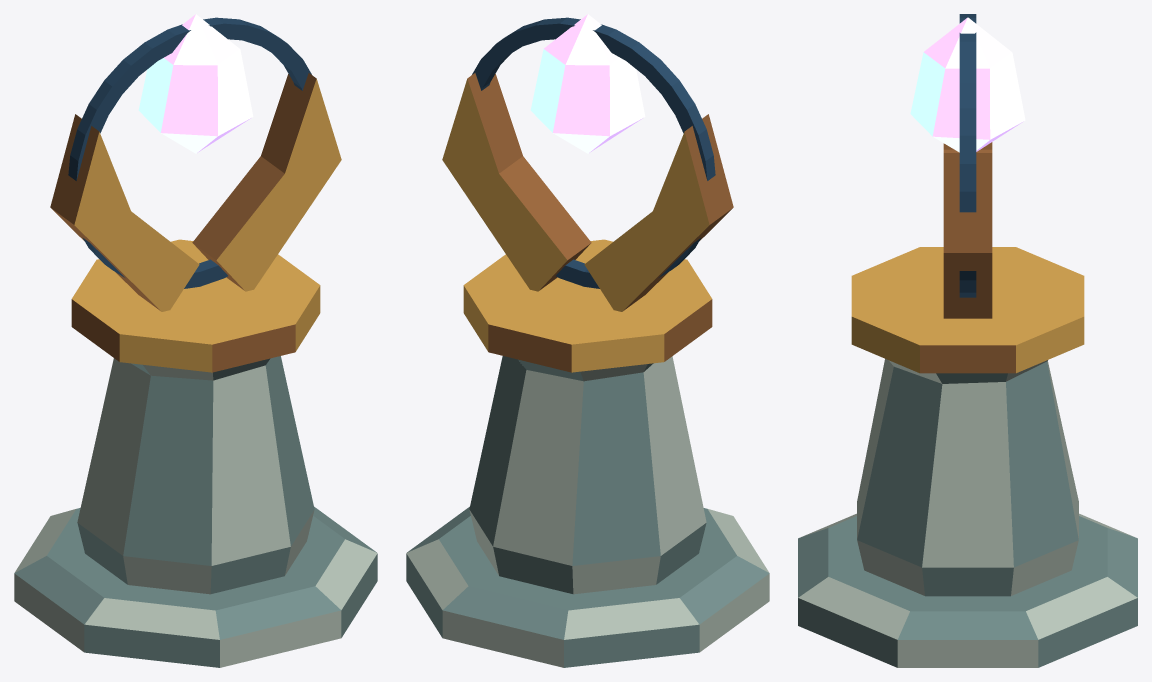
Rendered from tower_storm.glb.
3 views of the same model, side by side, from view 1: azimuth 30°, elevation 25°; view 2: azimuth 150°, elevation 25°; view 3: azimuth 270°, elevation 25° (orthographic).
Parts seen in each view (by area): view 1: storm_shaft, storm_foundation, storm_gold_collar, Storm_fork.001, Storm_fork, Storm_orb, Storm_aperture; view 2: storm_shaft, storm_foundation, storm_gold_collar, Storm_fork.001, Storm_fork, Storm_orb, Storm_aperture; view 3: storm_shaft, storm_foundation, storm_gold_collar, Storm_orb, Storm_fork.001, Storm_aperture.
Part boxes in pixels (<box>): storm_shaft: <box>77,356,314,594</box>; storm_foundation: <box>14,506,377,667</box>; storm_gold_collar: <box>71,239,320,372</box>; Storm_fork.001: <box>192,73,341,291</box>; Storm_fork: <box>50,114,199,311</box>; Storm_orb: <box>138,14,253,153</box>; Storm_aperture: <box>68,17,311,288</box>; storm_shaft: <box>469,356,706,594</box>; storm_foundation: <box>406,506,769,667</box>; storm_gold_collar: <box>463,239,712,372</box>; Storm_fork.001: <box>442,73,591,291</box>; Storm_fork: <box>584,114,733,311</box>; Storm_orb: <box>530,14,645,153</box>; Storm_aperture: <box>472,17,715,288</box>; storm_shaft: <box>857,359,1078,596</box>; storm_foundation: <box>798,513,1137,667</box>; storm_gold_collar: <box>851,247,1084,373</box>; Storm_orb: <box>910,17,1025,152</box>; Storm_fork.001: <box>943,153,992,318</box>; Storm_aperture: <box>959,14,976,297</box>.
Size of the model in its own units: 1.76 by 3.3 by 1.76.
